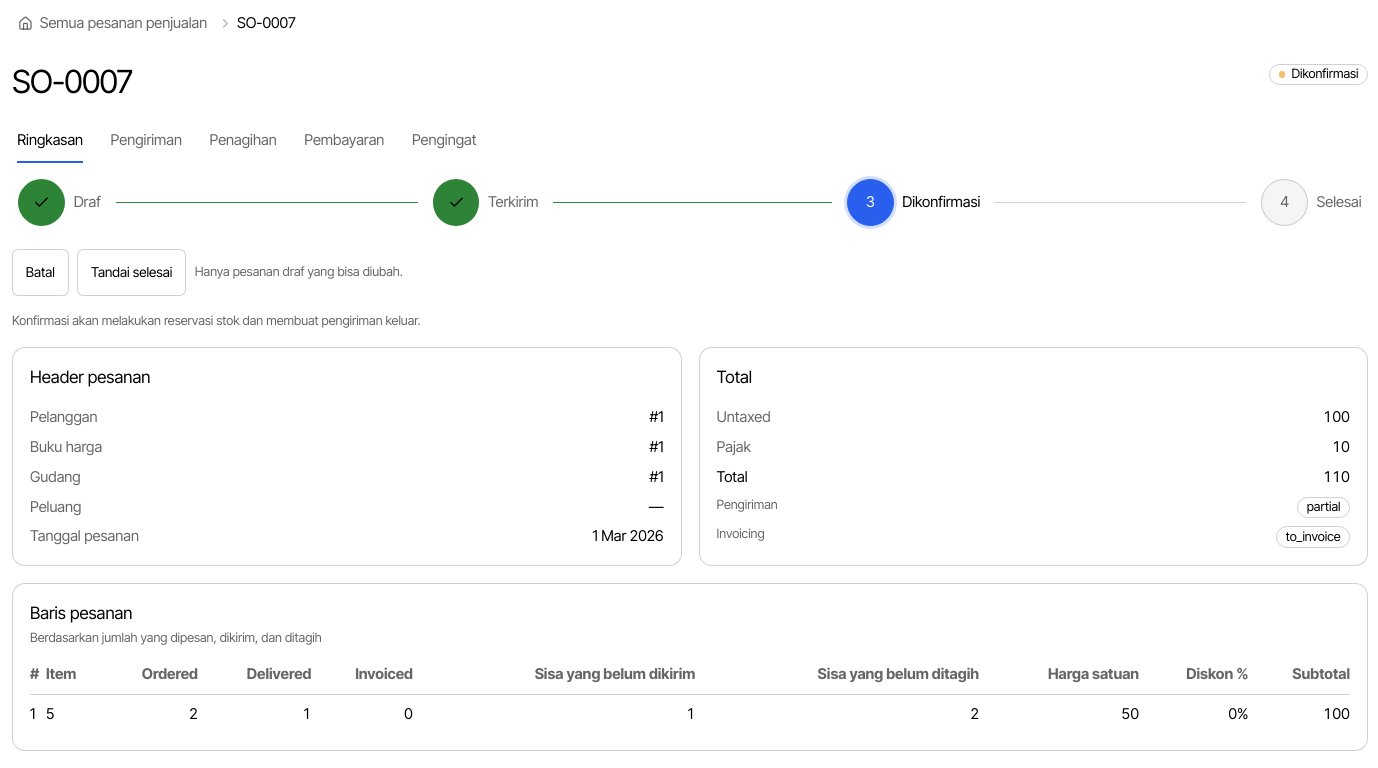
SaleOrderDetail branches2 › shows the linked shipment branch when a shipment matches the order
The image size is (1378, 768).
Click the tab "Pengiriman".
click(146, 141)  # box [110, 117, 183, 164]
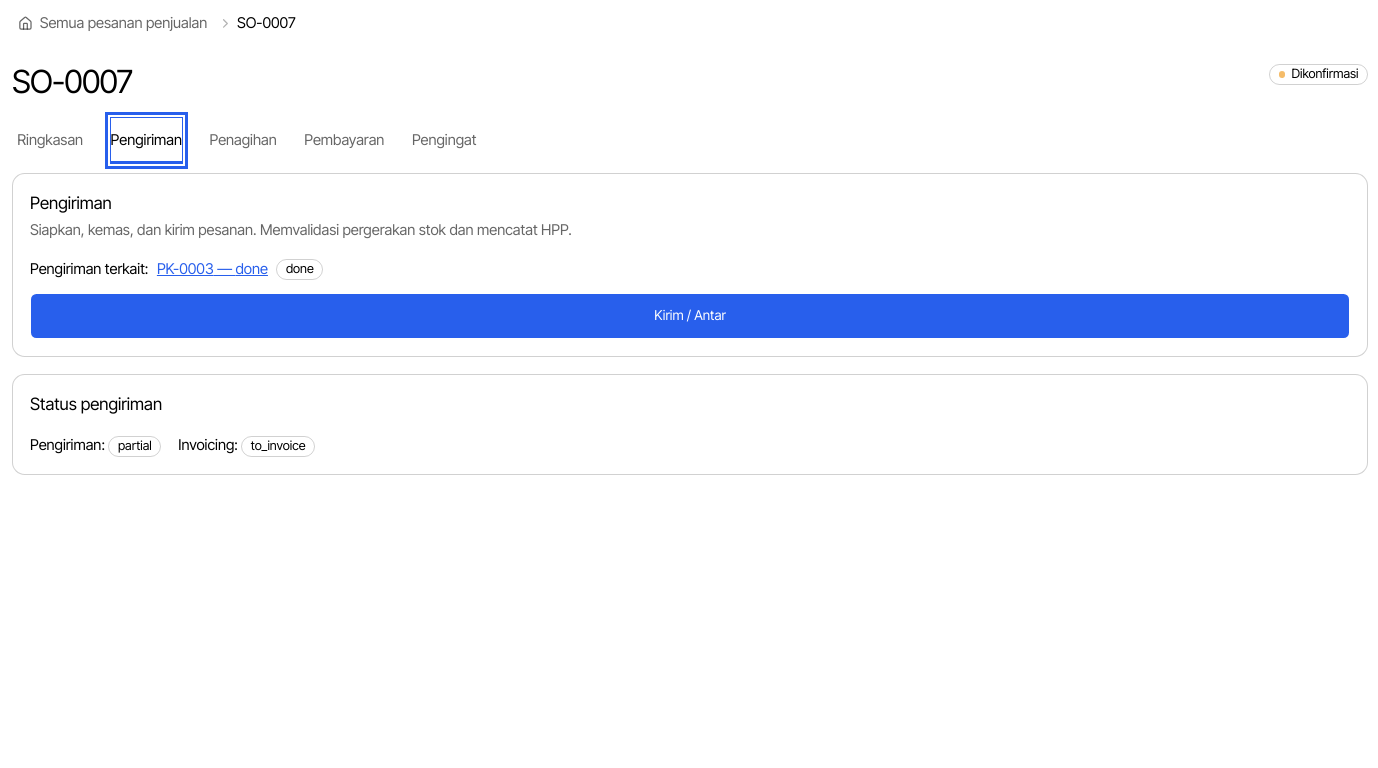
Check: the link "PK-0003 — done" is shown, box [157, 259, 268, 280]
